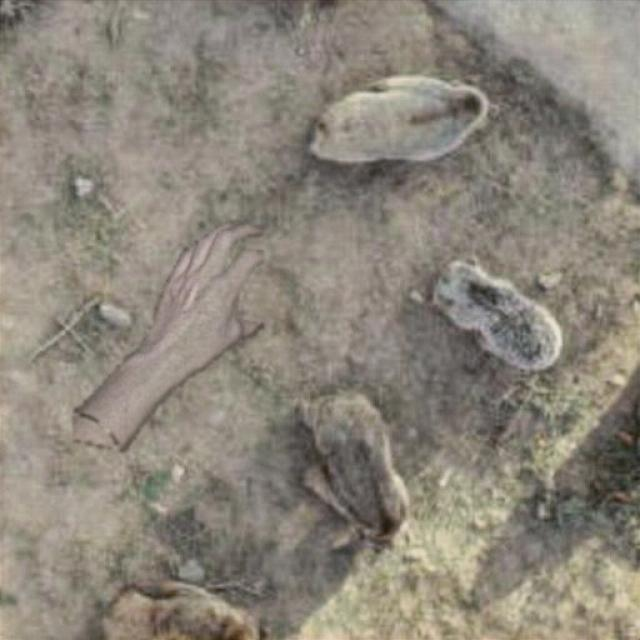Person in Rubble: (72, 220, 262, 450)
